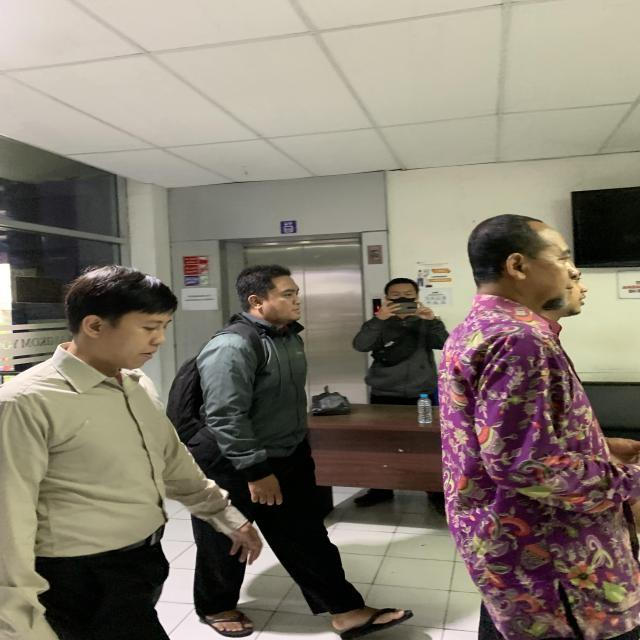hairnet: (54, 267, 179, 373), (471, 215, 573, 306), (227, 258, 311, 328), (558, 256, 590, 318)
